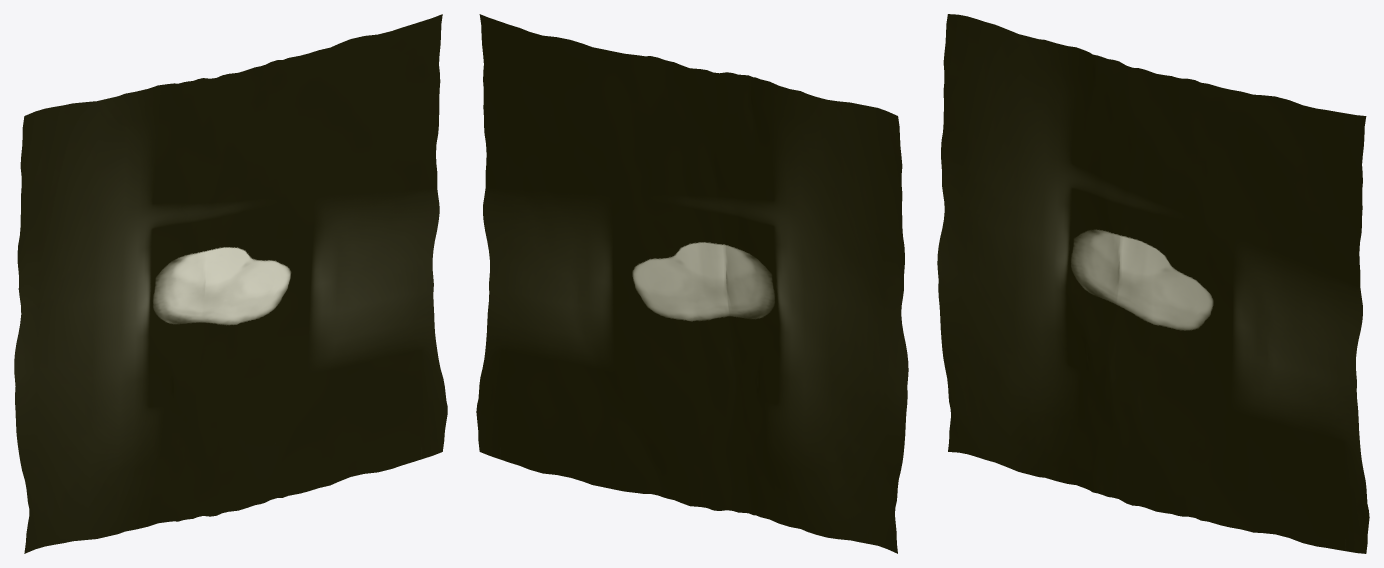
The model's file is kin_umi.gltf.
3 renders of one model, left to right at view 1: azimuth 30°, elevation 25°; view 2: azimuth 150°, elevation 25°; view 3: azimuth 330°, elevation 25°, orthographic.
Parts seen in each view (by area): view 1: グリッド; view 2: グリッド; view 3: グリッド.
Boxes of the visible parts, bbox=[...] form: グリッド: bbox=[14, 14, 447, 553]; グリッド: bbox=[476, 14, 908, 553]; グリッド: bbox=[937, 14, 1369, 553].
Bounding box in the file's own units: 0.7703 × 0.7596 × 0.02.
Materials: 1 (1 with a texture image).
